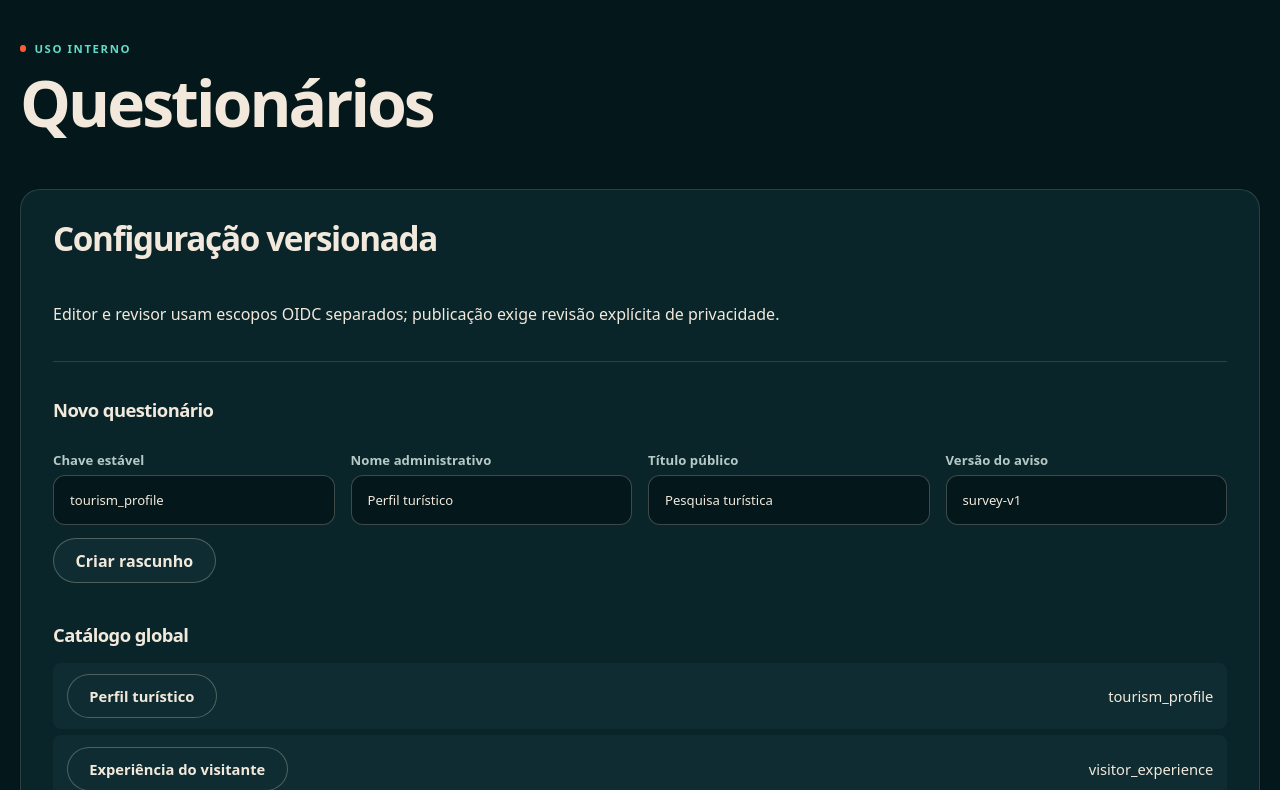
Test: administração de questionários › descarta uma versão atrasada após trocar de questionário
Click the button "Perfil turístico": (142, 696) [67, 674, 217, 718]
(page scrolled)
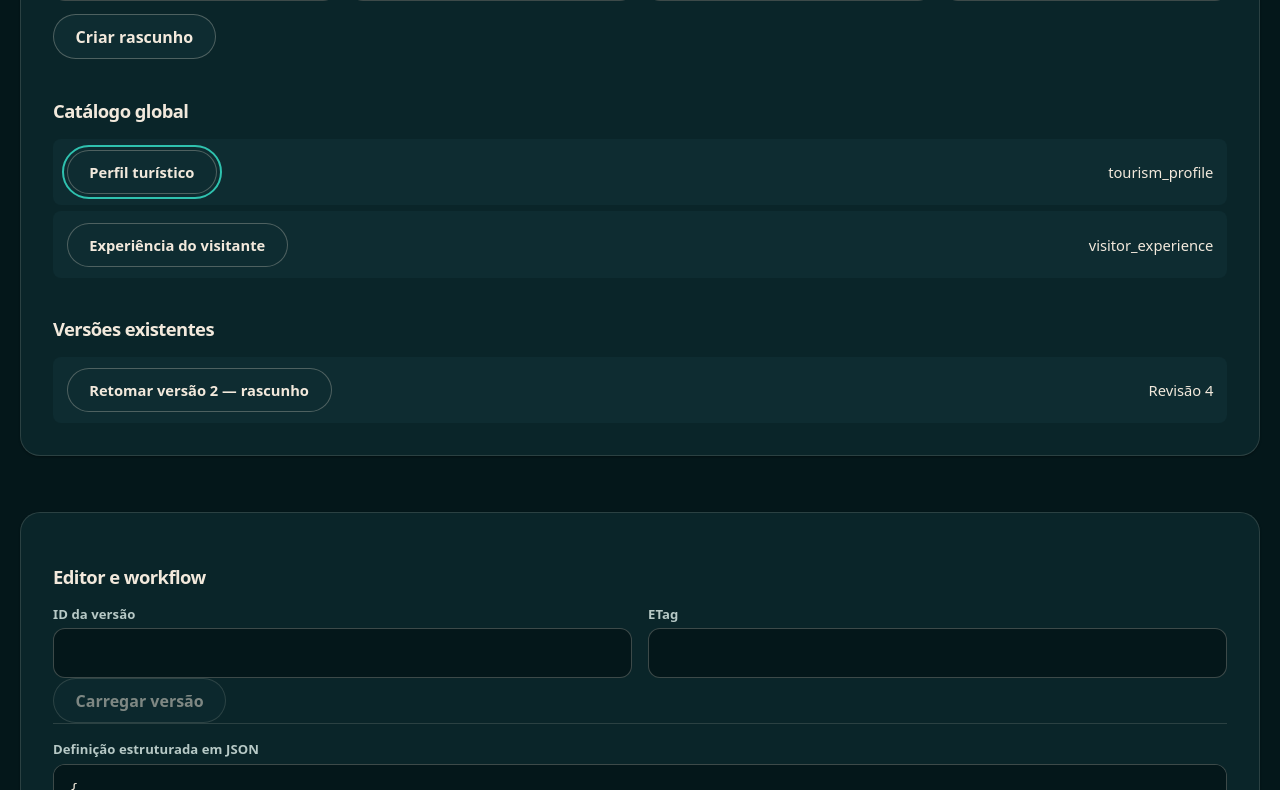
Click the button "Retomar versão 2 — rascunho": (199, 390) [67, 368, 332, 412]
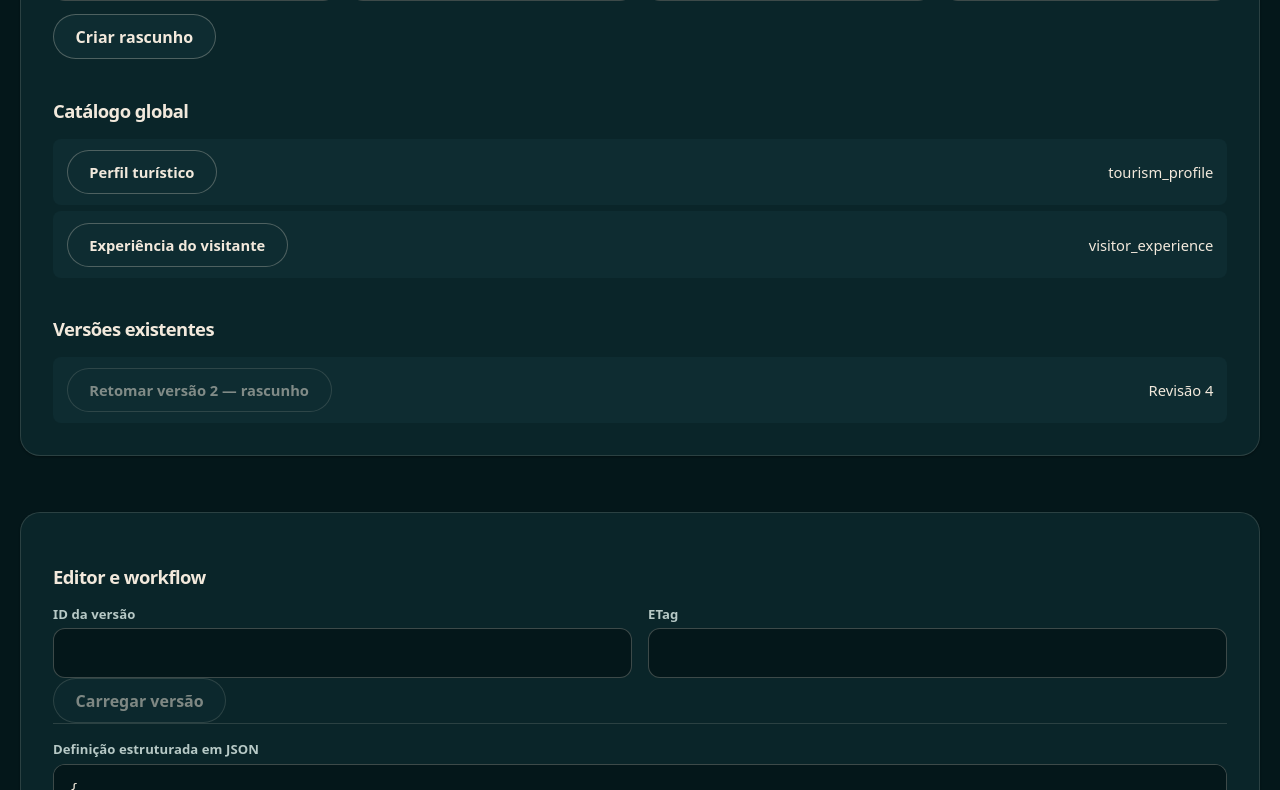
Click the button "Experiência do visitante": (177, 244) [67, 222, 288, 266]
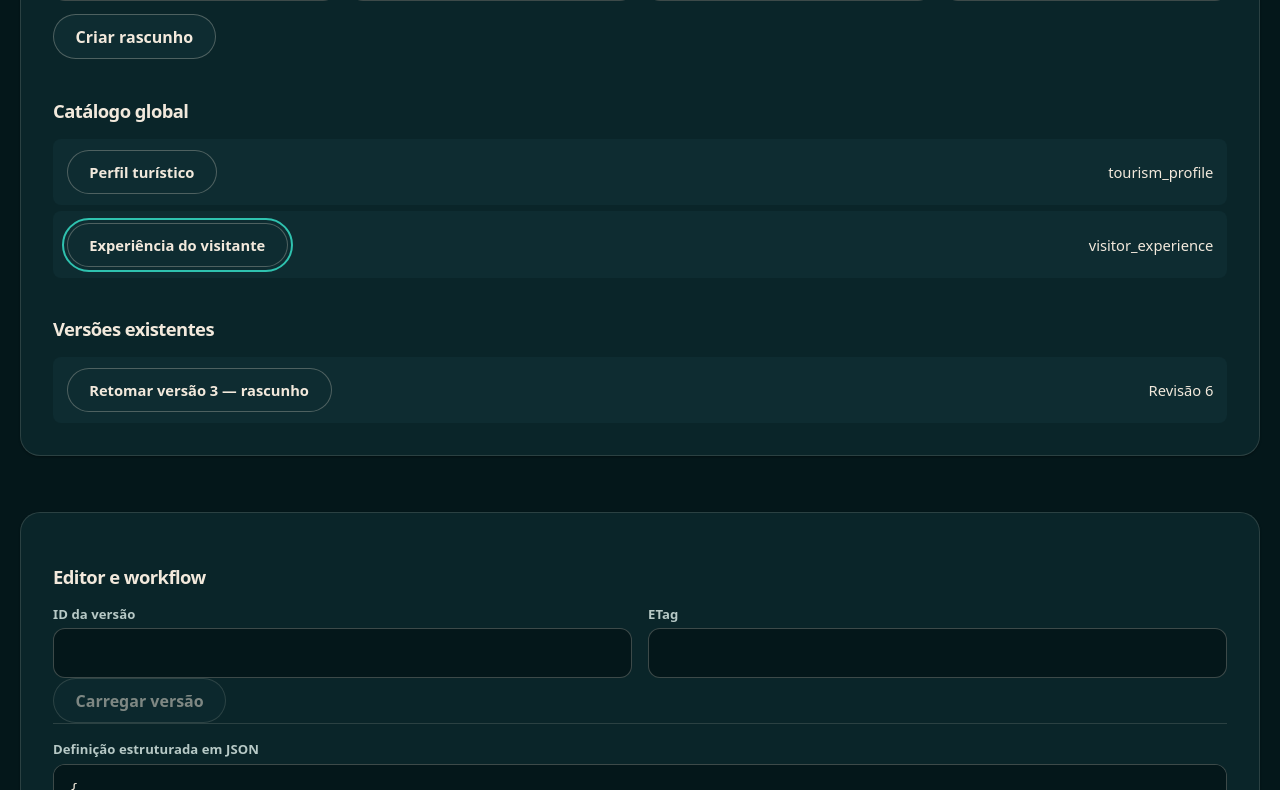
Click the button "Retomar versão 3 — rascunho": (199, 390) [67, 368, 332, 412]
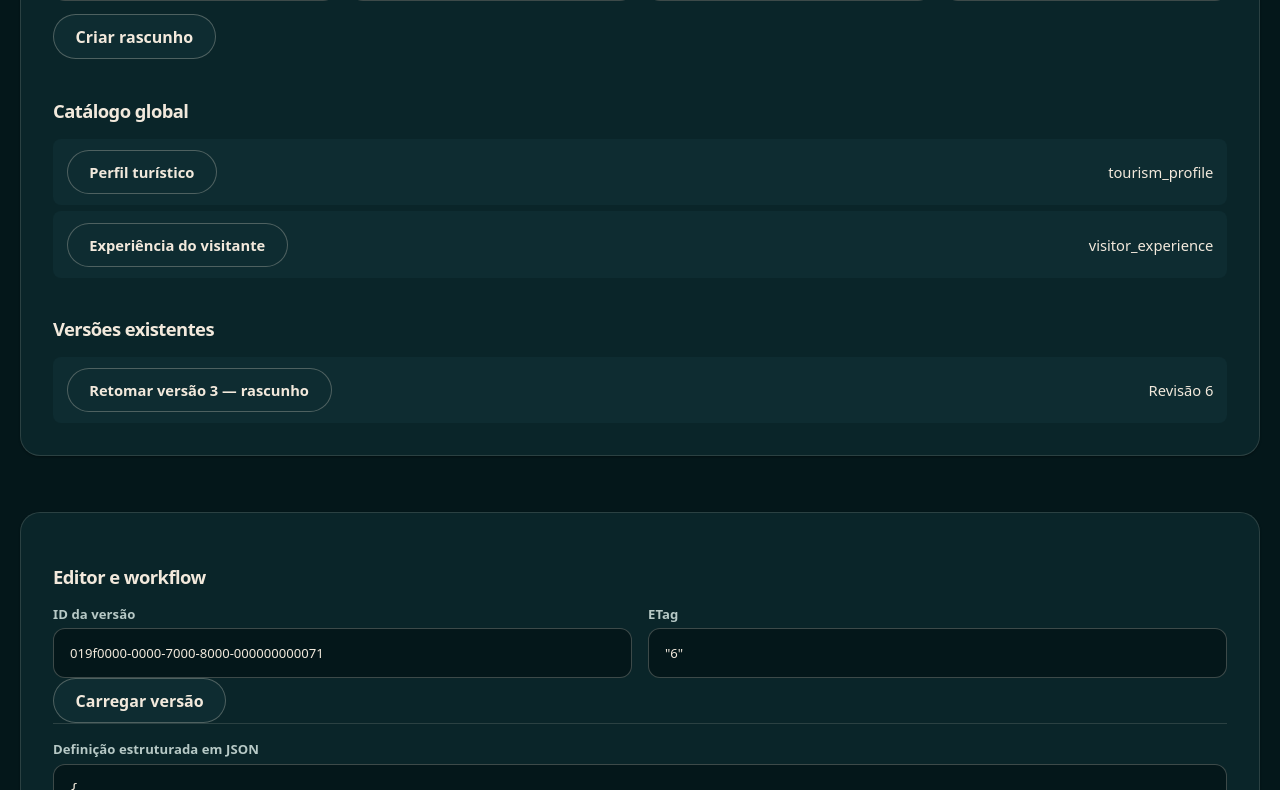
expect the field showing "019f0000-0000-7000-8000-000000000071" is shown: met, box [53, 628, 632, 678]
expect the field showing "\"6\"" is shown: met, box [648, 628, 1227, 678]
